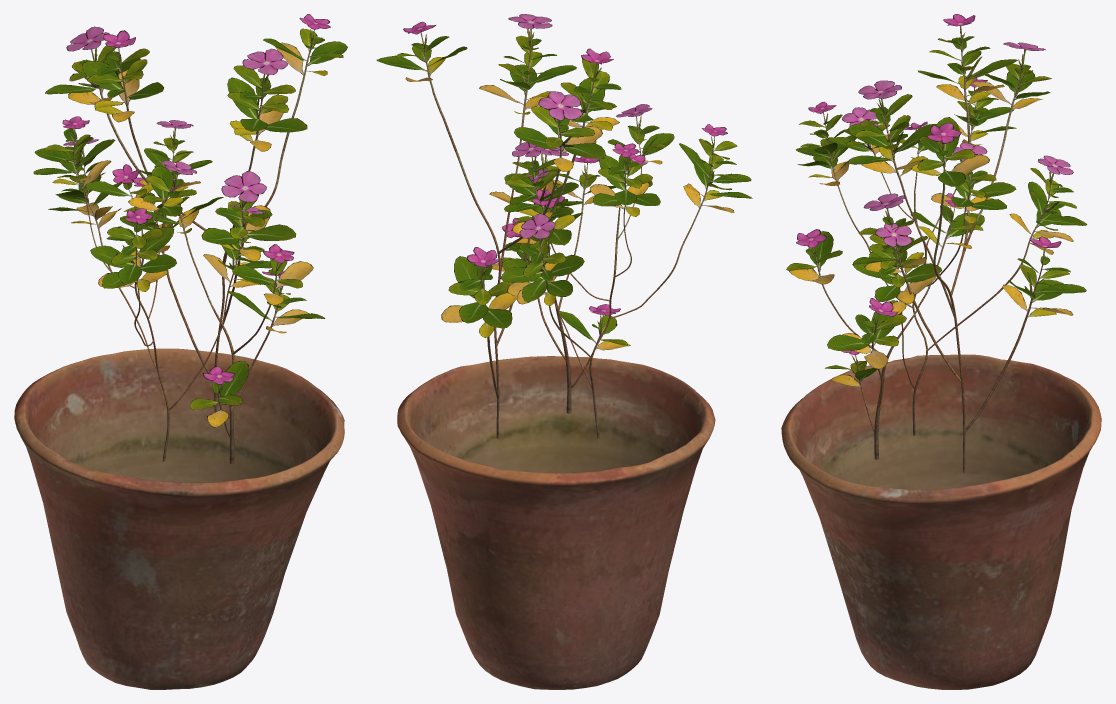
File: plant-periwinkle.glb
The picture shows the model from 3 angles, left to right: view 1: azimuth 30°, elevation 25°; view 2: azimuth 150°, elevation 25°; view 3: azimuth 270°, elevation 25°; orthographic projection.
Parts seen in each view (by area): view 1: planter_pot_clay, periwinkle_plant_02_LOD0, periwinkle_plant_01_LOD0, periwinkle_plant_04_LOD0; view 2: planter_pot_clay, periwinkle_plant_02_LOD0, periwinkle_plant_01_LOD0, periwinkle_plant_04_LOD0; view 3: planter_pot_clay, periwinkle_plant_02_LOD0, periwinkle_plant_01_LOD0, periwinkle_plant_04_LOD0.
Part boxes in pixels (x1=…): planter_pot_clay: x1=14, y1=348, x2=344, y2=689; periwinkle_plant_02_LOD0: x1=45, y1=14, x2=347, y2=412; periwinkle_plant_01_LOD0: x1=33, y1=116, x2=271, y2=461; periwinkle_plant_04_LOD0: x1=146, y1=179, x2=324, y2=463; planter_pot_clay: x1=397, y1=356, x2=715, y2=689; periwinkle_plant_02_LOD0: x1=376, y1=14, x2=621, y2=438; periwinkle_plant_01_LOD0: x1=500, y1=104, x2=752, y2=438; periwinkle_plant_04_LOD0: x1=492, y1=156, x2=630, y2=413; planter_pot_clay: x1=781, y1=354, x2=1101, y2=689; periwinkle_plant_02_LOD0: x1=848, y1=14, x2=1086, y2=472; periwinkle_plant_01_LOD0: x1=796, y1=78, x2=1086, y2=435; periwinkle_plant_04_LOD0: x1=786, y1=193, x2=984, y2=459.
Size of the model in its own units: 0.3697 by 0.702 by 0.3293.
4 materials, 4 textured.
